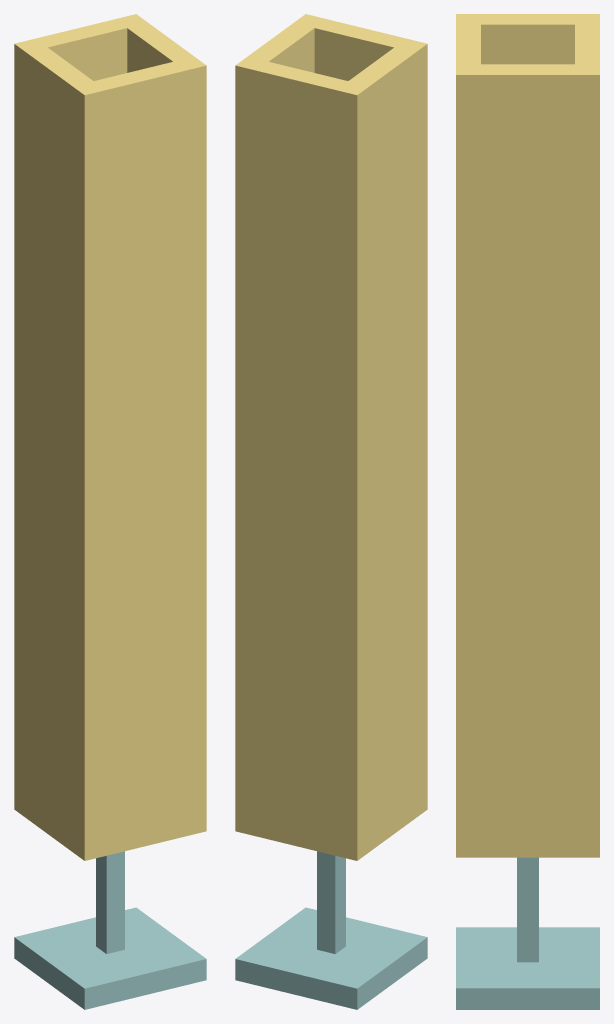
Rendered from lampSquareFloor.glb.
3 renders of one model, left to right at view 1: azimuth 30°, elevation 25°; view 2: azimuth 150°, elevation 25°; view 3: azimuth 270°, elevation 25°, orthographic. The views are drawn at different scales.
Bounding box in the file's own units: 1.2 × 8.6 × 1.2.
